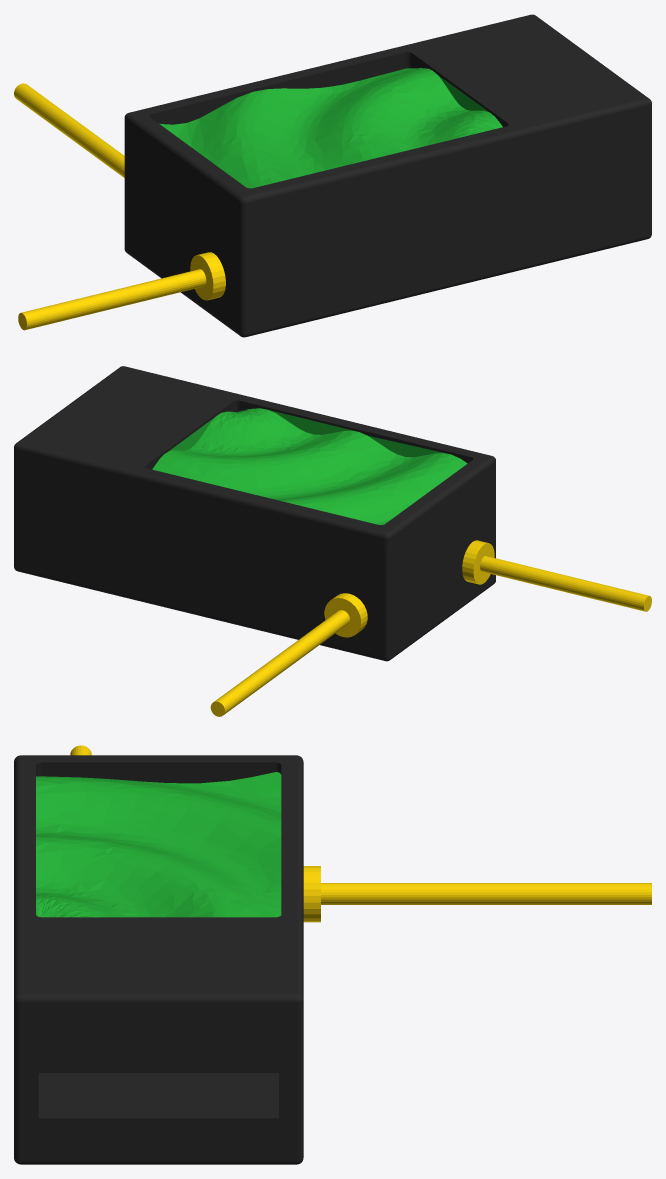
The model's file is receiver.glb.
3 renders of one model, top to bottom at view 1: azimuth 30°, elevation 25°; view 2: azimuth 150°, elevation 25°; view 3: azimuth 270°, elevation 25°, orthographic. The views are drawn at different scales.
Parts seen in each view (by area): view 1: receiver_01; view 2: receiver_01; view 3: receiver_01.
Boxes of the visible parts, x1,y1,x2,y2 form: receiver_01: (14,14,651,337); receiver_01: (14,366,651,716); receiver_01: (14,745,651,1164).
Bounding box in the file's own units: 63 × 14 × 47.6.
